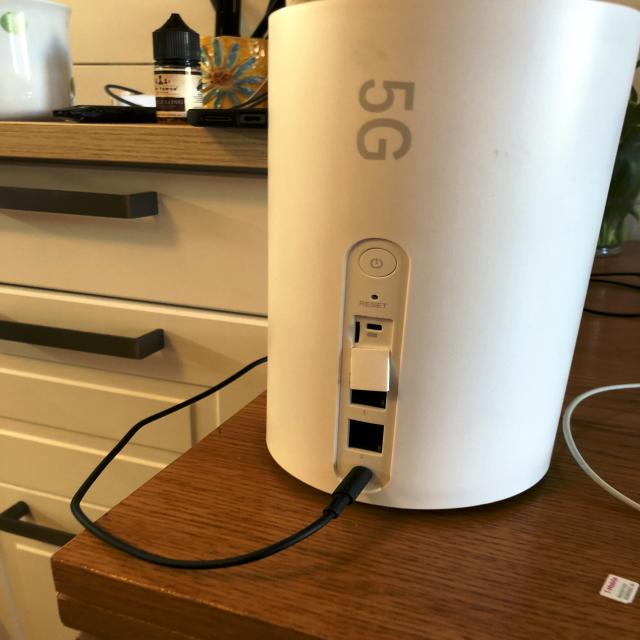lan: (348, 418, 385, 455)
modem: (260, 0, 640, 510)
onbutton: (361, 248, 397, 278)
powcab: (124, 465, 375, 574)
simopen: (348, 319, 366, 346)
